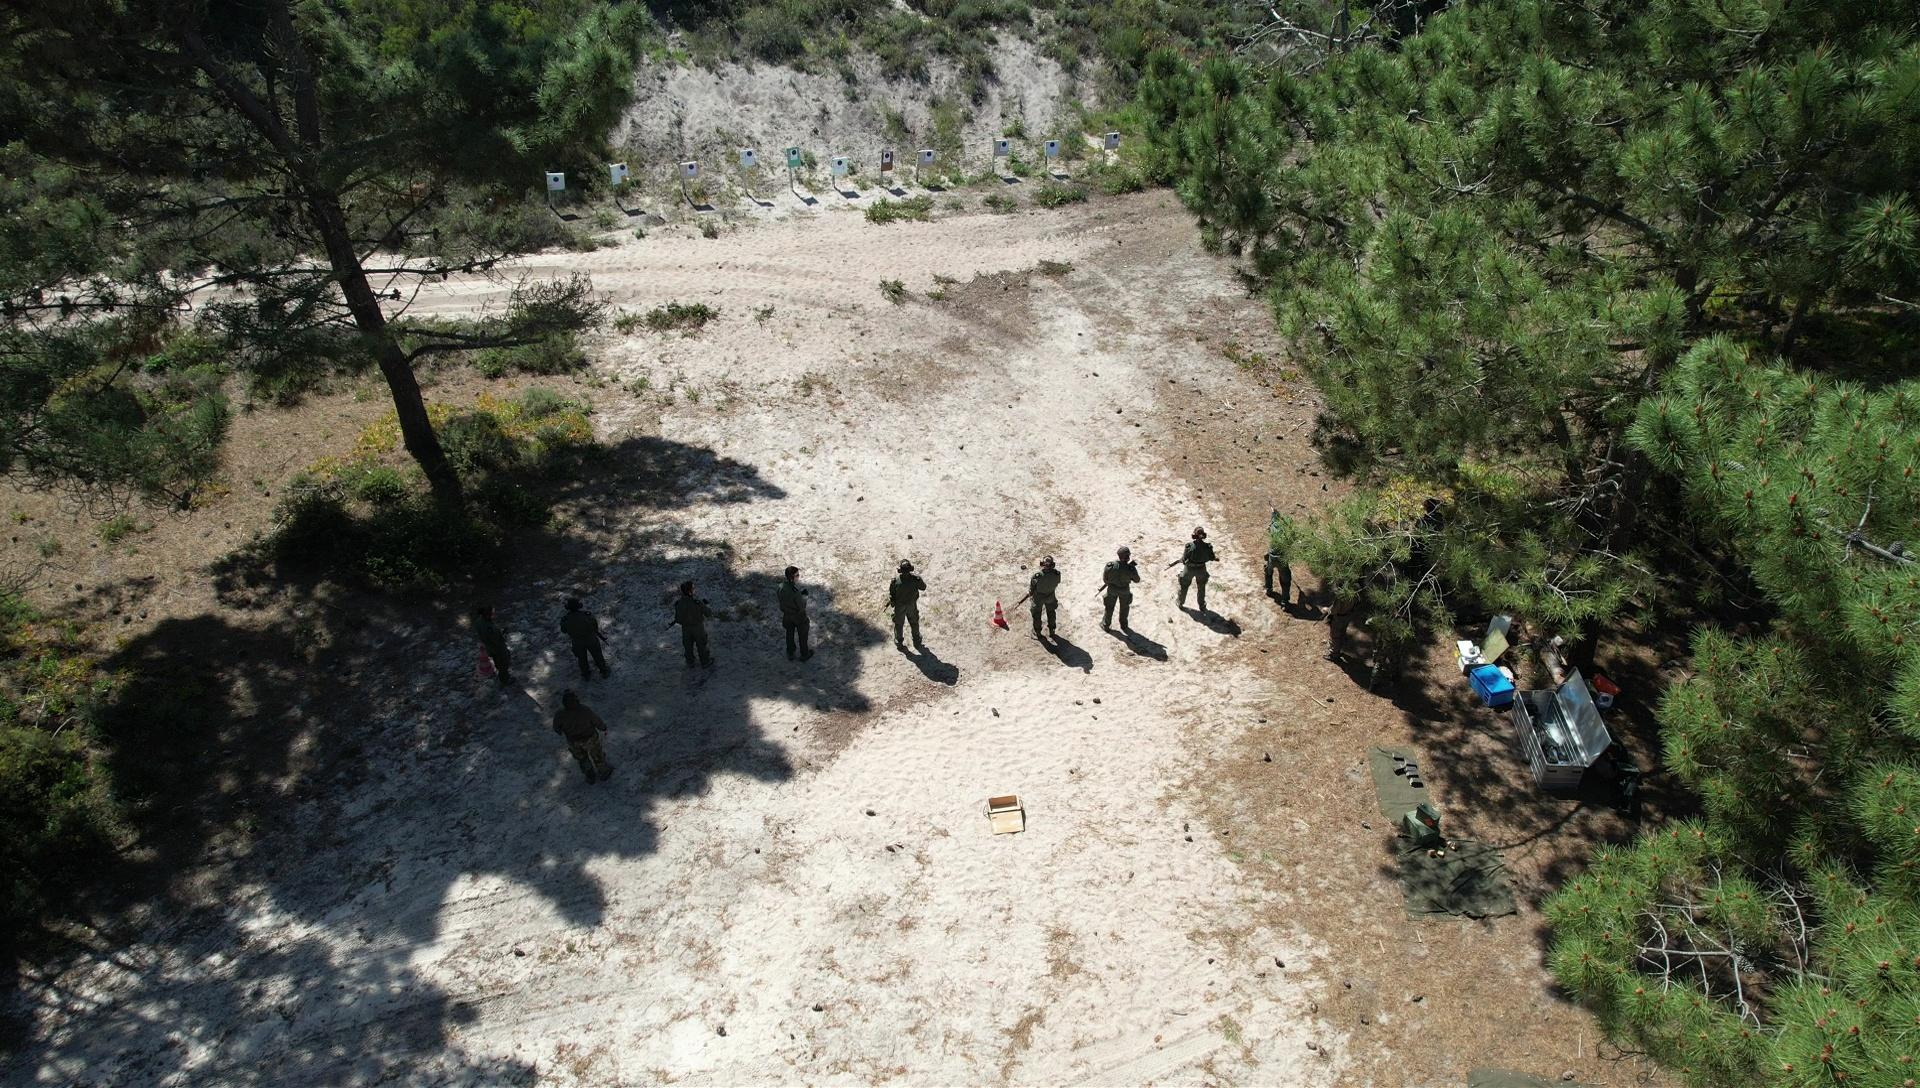Soldier: (545, 682, 620, 793), (767, 560, 825, 684), (661, 572, 723, 683), (880, 550, 936, 661), (459, 593, 516, 684), (1096, 538, 1141, 644), (1172, 518, 1217, 622), (1019, 555, 1067, 653), (556, 597, 608, 686)
